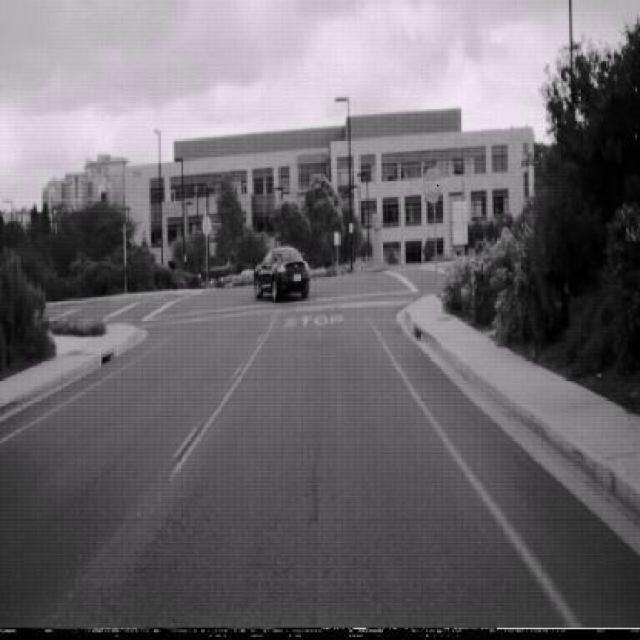stop: (425, 168, 443, 205)
